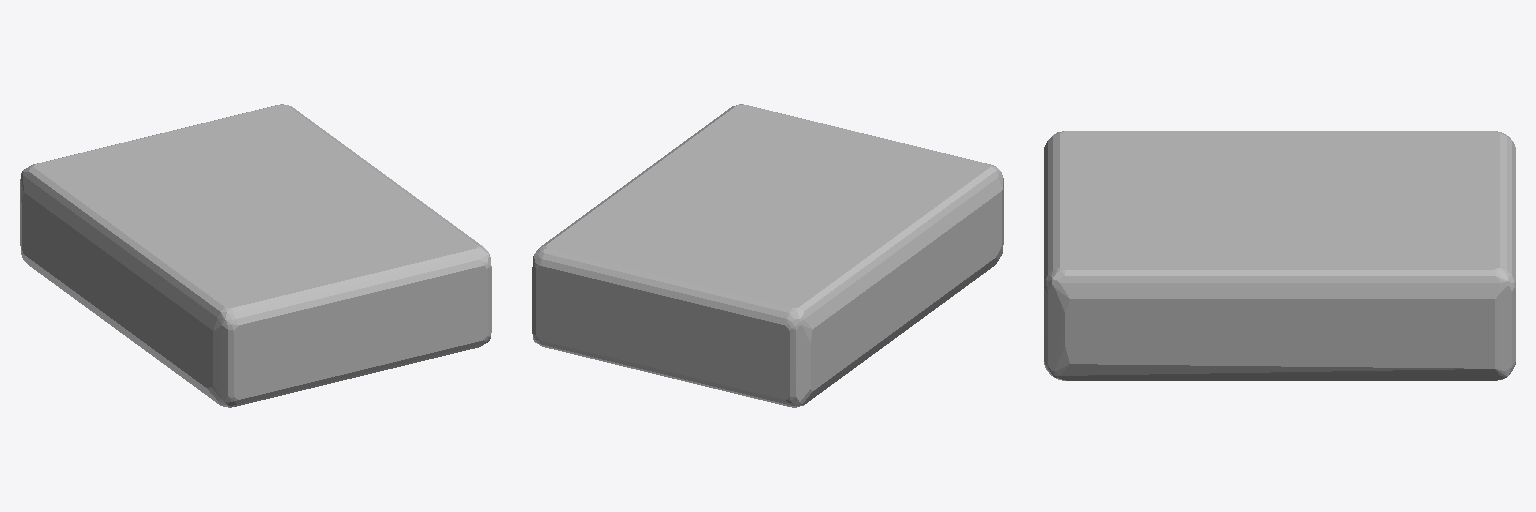
robot.urdf — root:
<robot name="root">
  <link name="link_coacd_convex_piece_0">
    <inertial>
      <origin xyz="0 0 0" rpy="0 0 0"/>
      <inertia ixx="1.61E-01" ixy="4.64E-06" ixz="-1.69E-05" iyy="2.37E-01" iyz="-4.99E-06" izz="9.65E-02"/>
    </inertial>
    <visual>
      <origin xyz="0 0 0" rpy="0 0 0"/>
      <geometry>
        <mesh filename="coacd_convex_piece_0.obj" scale="1.0000E+00 1.0000E+00 1.0000E+00"/>
      </geometry>
      <material name="">
        <color rgba="7.50E-01 7.50E-01 7.50E-01 1"/>
      </material>
    </visual>
    <collision>
      <origin xyz="0 0 0" rpy="0 0 0"/>
      <geometry>
        <mesh filename="coacd_convex_piece_0.obj" scale="1.0000E+00 1.0000E+00 1.0000E+00"/>
      </geometry>
    </collision>
  </link>
</robot>

--- Facts derived from the render (not from the file) ---
The picture shows the robot from 3 angles, left to right: view 1: azimuth 30°, elevation 25°; view 2: azimuth 150°, elevation 25°; view 3: azimuth 270°, elevation 25°; orthographic projection.
Robot: root — 1 links, 0 joints (none); root link link_coacd_convex_piece_0; default pose: all joints at 0.
Links seen in each view (by area): view 1: link_coacd_convex_piece_0; view 2: link_coacd_convex_piece_0; view 3: link_coacd_convex_piece_0.
Link boxes in pixels (box(x1,y1,x2,y2)): link_coacd_convex_piece_0: box(20, 104, 491, 407); link_coacd_convex_piece_0: box(532, 104, 1003, 407); link_coacd_convex_piece_0: box(1044, 131, 1515, 380).
Size in the robot's own frame: 1.21 by 1.59 by 0.4152 metres.
Meshes: 1 distinct files referenced, 1 mesh visuals loaded (1 OBJ).
